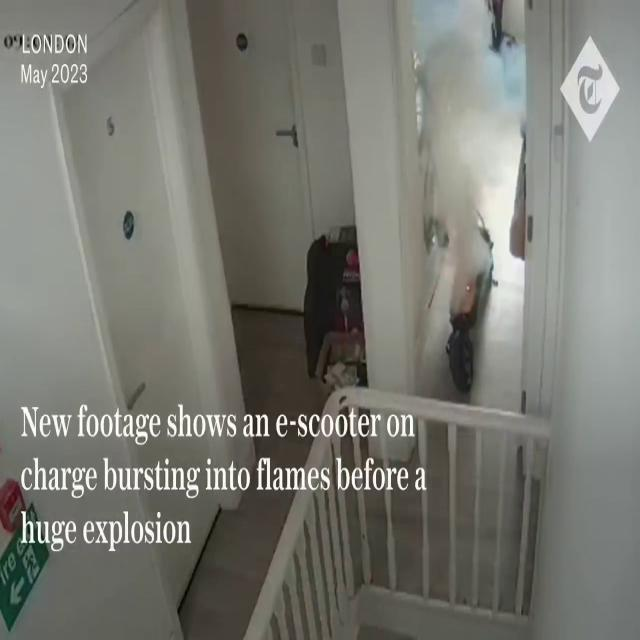Smoke: (408, 4, 496, 356)
